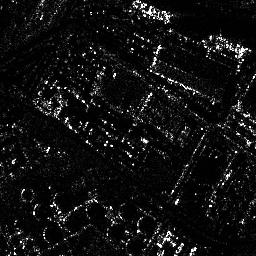ship: (132, 1, 173, 25)
